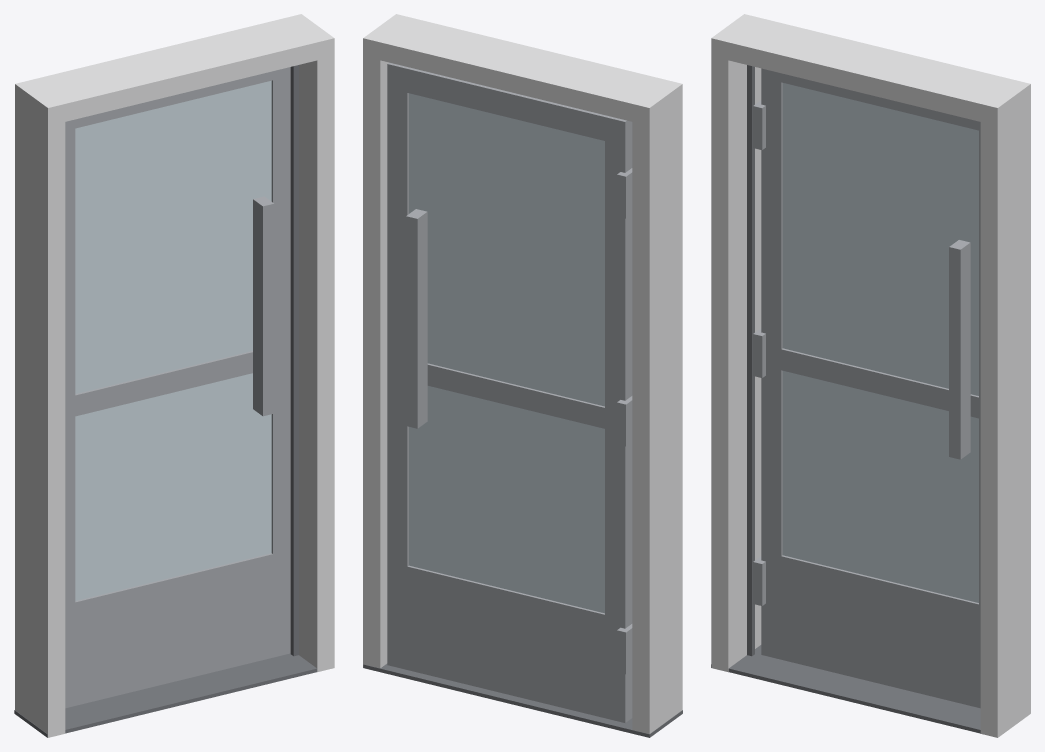
The model's file is modular-greybox-architecture-kit-door-glazed-9b78e01d__22886.glb.
3 renders of one model, left to right at view 1: azimuth 30°, elevation 25°; view 2: azimuth 150°, elevation 25°; view 3: azimuth 330°, elevation 25°, orthographic.
Visible parts, largest first — view 1: door-glazed, leaf/paneHigh, leaf/paneLow, leaf/railBottom, leaf/stileB, leaf/stileA, leaf/pullA, leaf/railLock, leaf/railTop; view 2: door-glazed, leaf/paneHigh, leaf/paneLow, leaf/railBottom, leaf/stileA, leaf/stileB, leaf/railTop, leaf/pullB, leaf/railLock, leaf/hinge102, leaf/hinge26, leaf/hinge178; view 3: door-glazed, leaf/paneHigh, leaf/paneLow, leaf/railBottom, leaf/stileA, leaf/pullA, leaf/railLock, leaf/railTop, leaf/stileB, leaf/hinge26, leaf/hinge102, leaf/hinge178.
Part boxes in pixels (<box>): door-glazed: <box>14,14,334,737</box>; leaf/paneHigh: <box>75,80,271,393</box>; leaf/paneLow: <box>75,373,271,600</box>; leaf/railBottom: <box>75,553,272,705</box>; leaf/stileB: <box>271,67,290,657</box>; leaf/stileA: <box>65,119,75,708</box>; leaf/pullA: <box>253,196,274,416</box>; leaf/railLock: <box>75,351,252,416</box>; leaf/railTop: <box>75,71,272,128</box>; door-glazed: <box>363,14,682,737</box>; leaf/paneHigh: <box>409,93,604,406</box>; leaf/paneLow: <box>409,386,604,613</box>; leaf/railBottom: <box>407,565,604,717</box>; leaf/stileA: <box>605,115,632,722</box>; leaf/stileB: <box>387,62,408,669</box>; leaf/railTop: <box>407,67,606,140</box>; leaf/pullB: <box>406,209,427,428</box>; leaf/railLock: <box>427,363,604,428</box>; leaf/hinge102: <box>617,396,632,446</box>; leaf/hinge26: <box>617,624,632,674</box>; leaf/hinge178: <box>617,168,632,218</box>; door-glazed: <box>711,14,1030,737</box>; leaf/paneHigh: <box>782,83,978,395</box>; leaf/paneLow: <box>782,371,978,602</box>; leaf/railBottom: <box>781,555,978,707</box>; leaf/stileA: <box>761,68,782,659</box>; leaf/pullA: <box>949,240,970,459</box>; leaf/railLock: <box>781,348,978,418</box>; leaf/railTop: <box>781,73,978,130</box>; leaf/stileB: <box>979,121,980,708</box>; leaf/hinge26: <box>753,556,765,605</box>; leaf/hinge102: <box>753,328,765,377</box>; leaf/hinge178: <box>753,100,765,149</box>.
Size of the model in its own units: 1 by 2.1 by 0.2345.
